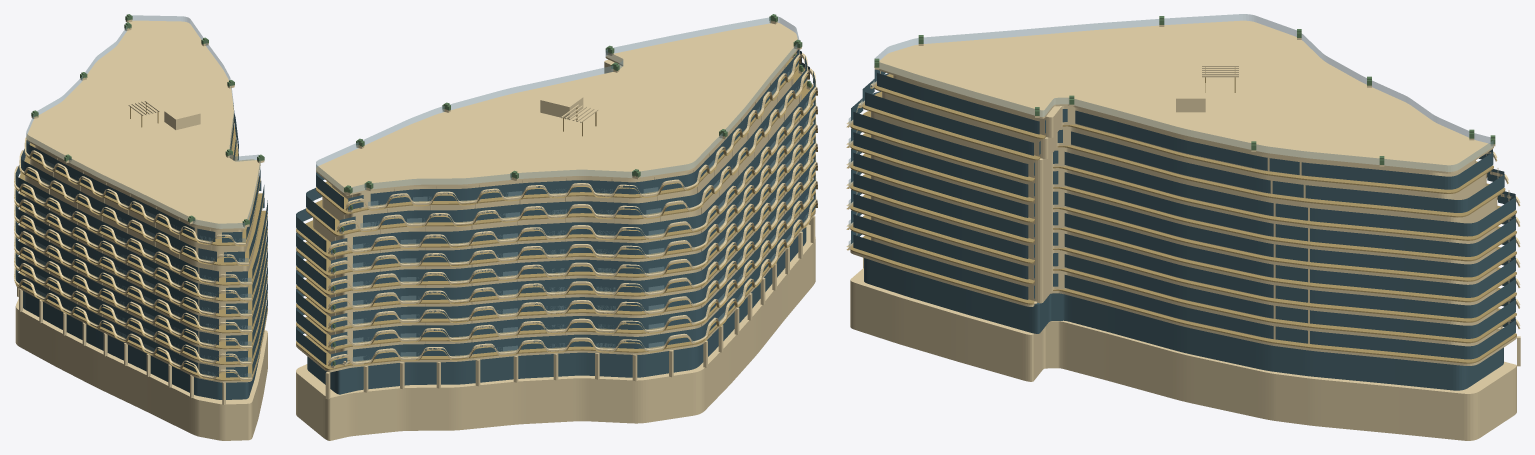
Rendered from ivory-suites.glb.
3 views of the same model, side by side, from view 1: azimuth 30°, elevation 25°; view 2: azimuth 150°, elevation 25°; view 3: azimuth 270°, elevation 25° (orthographic). The views are drawn at different scales.
Visible parts, largest first — view 1: Wellenfassade und Hotel; view 2: Wellenfassade und Hotel; view 3: Wellenfassade und Hotel.
Part boxes in pixels (x1,y1,x2,y2): Wellenfassade und Hotel: [14, 14, 267, 440]; Wellenfassade und Hotel: [296, 14, 817, 440]; Wellenfassade und Hotel: [846, 14, 1520, 440].
Bounding box in the file's own units: 52.21 × 41.74 × 91.03.
